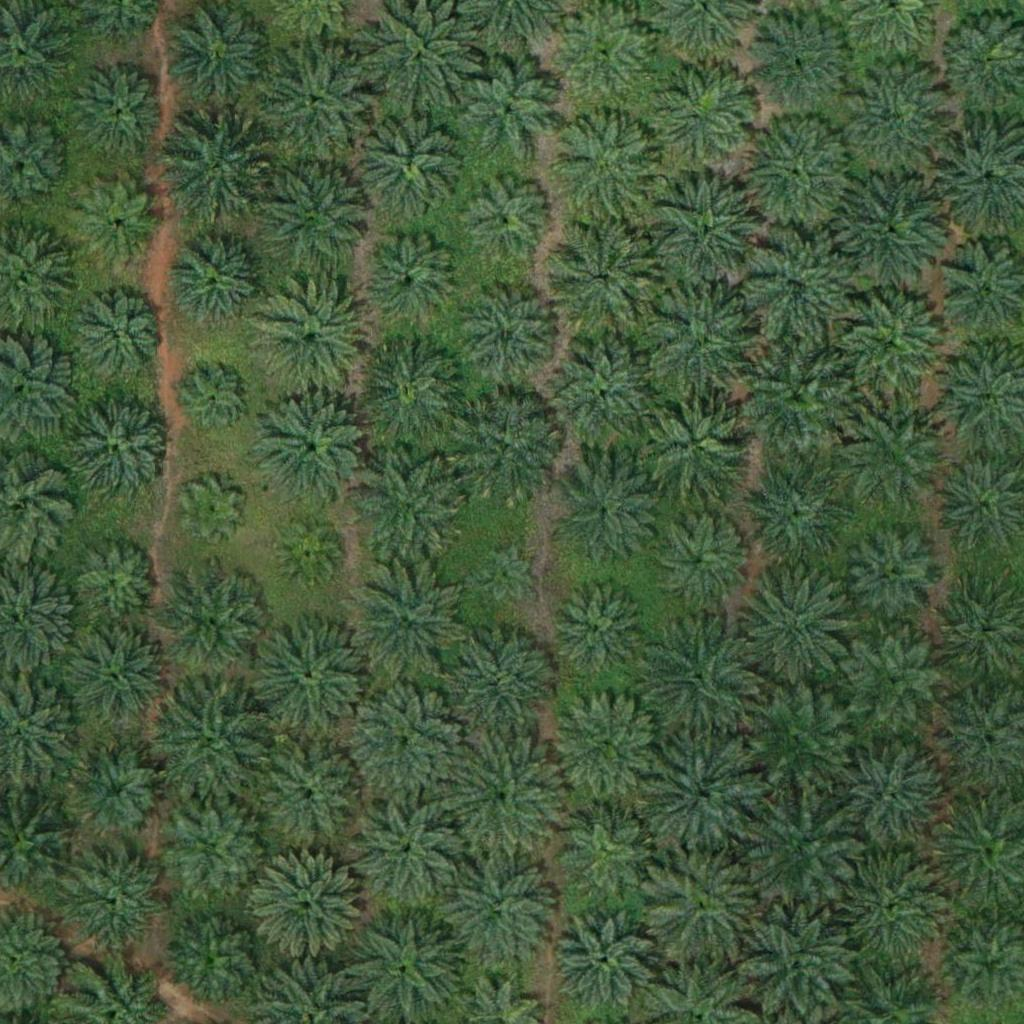Kelapa_Sawit: (156, 113, 269, 227), (738, 679, 851, 793), (644, 615, 757, 729), (550, 459, 663, 573), (745, 789, 858, 903), (162, 222, 275, 335), (254, 284, 367, 397), (551, 112, 664, 225), (543, 221, 656, 334), (740, 5, 853, 118), (843, 59, 956, 172), (835, 169, 948, 282), (837, 290, 950, 403), (648, 289, 761, 402), (639, 388, 752, 501), (644, 737, 757, 850), (548, 340, 661, 453), (347, 561, 460, 674), (351, 684, 464, 797), (256, 395, 369, 508), (253, 621, 366, 734), (253, 851, 366, 964), (346, 796, 459, 909), (349, 910, 462, 1023), (645, 850, 758, 963), (740, 909, 853, 1022), (262, 45, 374, 159), (259, 157, 371, 271), (356, 225, 468, 339), (833, 740, 945, 854), (450, 394, 562, 508), (353, 337, 465, 451), (841, 848, 953, 962), (357, 108, 469, 221), (651, 176, 763, 289), (739, 119, 851, 232), (740, 231, 852, 344), (839, 401, 951, 514), (742, 341, 854, 454), (738, 453, 850, 566), (740, 565, 852, 678), (551, 692, 663, 805), (445, 626, 557, 739), (447, 739, 559, 852), (356, 450, 468, 563), (253, 740, 365, 853), (157, 567, 269, 680), (156, 689, 268, 802), (65, 394, 177, 507), (59, 625, 171, 738), (441, 857, 553, 970), (456, 57, 556, 158), (552, 3, 652, 104), (652, 63, 752, 164), (845, 527, 945, 628), (845, 630, 945, 731), (67, 742, 167, 843), (167, 797, 267, 898), (168, 907, 268, 1008), (556, 797, 656, 898), (552, 908, 652, 1009), (69, 63, 169, 163), (459, 286, 559, 386), (649, 509, 749, 609), (547, 578, 647, 678), (70, 847, 170, 947), (74, 295, 162, 383), (71, 535, 159, 623), (74, 179, 161, 267), (465, 176, 552, 264), (277, 522, 340, 585), (185, 368, 248, 431), (180, 479, 243, 542), (474, 542, 536, 605)
